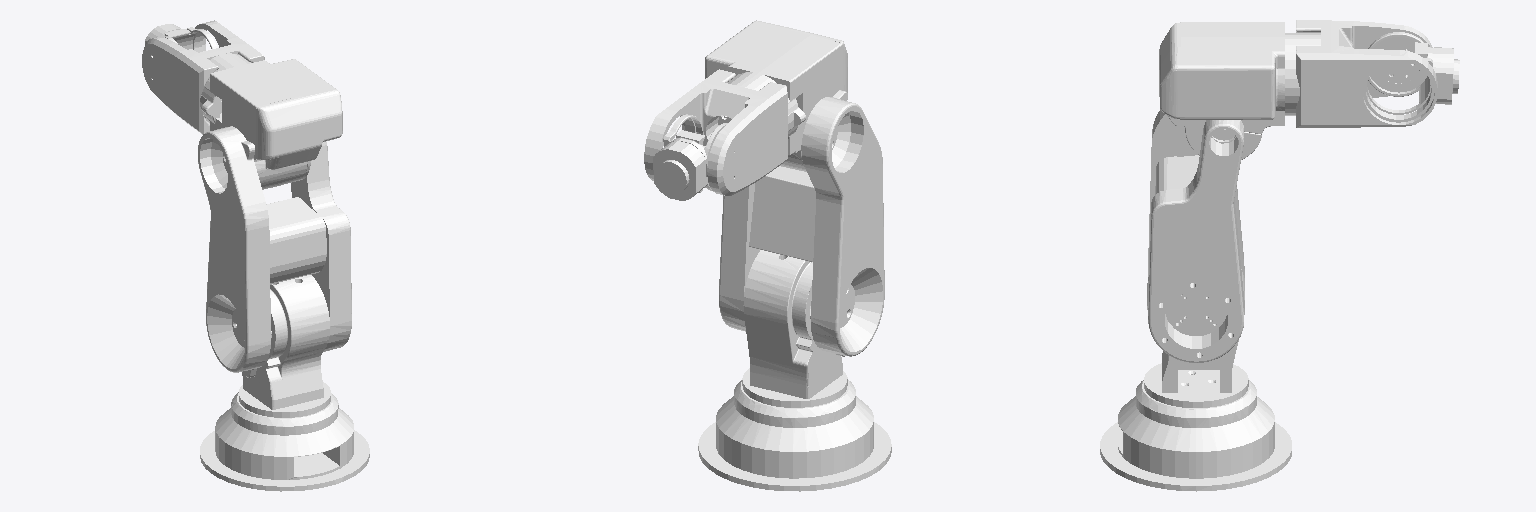
robot.urdf — URDFrv4310V5:
<?xml version="1.0" encoding="utf-8"?>
<!-- This URDF was automatically created by SolidWorks to URDF Exporter! Originally created by Stephen Brawner (brawner@gmail.com) 
     Commit Version: 1.6.0-4-g7f85cfe  Build Version: 1.6.7995.38578
     For more information, please see http://wiki.ros.org/sw_urdf_exporter -->
<robot
  name="URDFrv4310V5">
  <link
    name="base_link">
    <inertial>
      <origin
        xyz="-0.0101029928561829 0.00541510687776237 0.00457907189567913"
        rpy="0 0 0" />
      <mass
        value="0.549364878093784" />
      <inertia
        ixx="0.000771742191237932"
        ixy="8.38431267360512E-10"
        ixz="-4.72291069552776E-10"
        iyy="0.000859100434967534"
        iyz="9.87271661745301E-06"
        izz="0.00131623999693316" />
    </inertial>
    <visual>
      <origin
        xyz="0 0 0"
        rpy="0 0 0" />
      <geometry>
        <mesh
          filename="package://URDFrv4310V5/meshes/base_link.STL" />
      </geometry>
      <material
        name="">
        <color
          rgba="1 1 1 1" />
      </material>
    </visual>
    <collision>
      <origin
        xyz="0 0 0"
        rpy="0 0 0" />
      <geometry>
        <mesh
          filename="package://URDFrv4310V5/meshes/base_link.STL" />
      </geometry>
    </collision>
  </link>
  <link
    name="Link_2">
    <inertial>
      <origin
        xyz="-0.000542719270293226 0.0580700926349134 -0.00138706366555102"
        rpy="0 0 0" />
      <mass
        value="0.24206224540398" />
      <inertia
        ixx="0.00050320038754434"
        ixy="-2.44140400645319E-05"
        ixz="1.00560402554646E-05"
        iyy="0.000210327437503027"
        iyz="-7.8875642308199E-06"
        izz="0.000446556812018024" />
    </inertial>
    <visual>
      <origin
        xyz="0 0 0"
        rpy="0 0 0" />
      <geometry>
        <mesh
          filename="package://URDFrv4310V5/meshes/Link_2.STL" />
      </geometry>
      <material
        name="">
        <color
          rgba="1 1 1 1" />
      </material>
    </visual>
    <collision>
      <origin
        xyz="0 0 0"
        rpy="0 0 0" />
      <geometry>
        <mesh
          filename="package://URDFrv4310V5/meshes/Link_2.STL" />
      </geometry>
    </collision>
  </link>
  <joint
    name="Joint_2"
    type="revolute">
    <origin
      xyz="-0.010103026744882 0.00179032146302967 0.0400894885827927"
      rpy="1.5707963267949 0 0.179381121036193" />
    <parent
      link="base_link" />
    <child
      link="Link_2" />
    <axis
      xyz="0 -1 0" />
    <limit
      lower="-3"
      upper="3"
      effort="3"
      velocity="31" />
  </joint>
  <link
    name="Link_3">
    <inertial>
      <origin
        xyz="-0.00998520469406751 0.0708578128269866 -0.00872725581638116"
        rpy="0 0 0" />
      <mass
        value="0.8323488073995" />
      <inertia
        ixx="0.0023530508740338"
        ixy="0.00011825724741994"
        ixz="-0.000152260416248124"
        iyy="0.00165660036639658"
        iyz="0.000283605004170917"
        izz="0.00313372486807789" />
    </inertial>
    <visual>
      <origin
        xyz="0 0 0"
        rpy="0 0 0" />
      <geometry>
        <mesh
          filename="package://URDFrv4310V5/meshes/Link_3.STL" />
      </geometry>
      <material
        name="">
        <color
          rgba="1 1 1 1" />
      </material>
    </visual>
    <collision>
      <origin
        xyz="0 0 0"
        rpy="0 0 0" />
      <geometry>
        <mesh
          filename="package://URDFrv4310V5/meshes/Link_3.STL" />
      </geometry>
    </collision>
  </link>
  <joint
    name="Joint_3"
    type="revolute">
    <origin
      xyz="0 0.0839285714286007 0"
      rpy="0.0898969539883811 0 0" />
    <parent
      link="Link_2" />
    <child
      link="Link_3" />
    <axis
      xyz="-0.983954302006384 -0.0160178787679434 -0.177700194493154" />
    <limit
      lower="-1.8"
      upper="2.4"
      effort="35"
      velocity="31" />
  </joint>
  <link
    name="Link_4">
    <inertial>
      <origin
        xyz="0.00817547125279738 0.0347372876122785 -0.0384445503706097"
        rpy="0 0 0" />
      <mass
        value="0.540085870130829" />
      <inertia
        ixx="0.000885402497020706"
        ixy="-2.29086887602058E-05"
        ixz="1.37726456275257E-05"
        iyy="0.000908479900759293"
        iyz="-1.22513104391719E-05"
        izz="0.000624307542304688" />
    </inertial>
    <visual>
      <origin
        xyz="0 0 0"
        rpy="0 0 0" />
      <geometry>
        <mesh
          filename="package://URDFrv4310V5/meshes/Link_4.STL" />
      </geometry>
      <material
        name="">
        <color
          rgba="1 1 1 1" />
      </material>
    </visual>
    <collision>
      <origin
        xyz="0 0 0"
        rpy="0 0 0" />
      <geometry>
        <mesh
          filename="package://URDFrv4310V5/meshes/Link_4.STL" />
      </geometry>
    </collision>
  </link>
  <joint
    name="Joint_4"
    type="revolute">
    <origin
      xyz="0 0.164285714285755 0"
      rpy="-0.0898969539883811 0 0" />
    <parent
      link="Link_3" />
    <child
      link="Link_4" />
    <axis
      xyz="-0.983954302006411 0 -0.178420659014244" />
    <limit
      lower="-3"
      upper="0.9"
      effort="3"
      velocity="31" />
  </joint>
  <link
    name="Link_5">
    <inertial>
      <origin
        xyz="0.019045 0.00090581 -0.1066"
        rpy="0 0 0" />
      <mass
        value="0.19735" />
      <inertia
        ixx="0.0002376"
        ixy="-3.4066E-06"
        ixz="-2.647E-05"
        iyy="0.00027293"
        iyz="-2.7386E-06"
        izz="0.00020071" />
    </inertial>
    <visual>
      <origin
        xyz="0 0 0"
        rpy="0 0 0" />
      <geometry>
        <mesh
          filename="package://URDFrv4310V5/meshes/Link_5.STL" />
      </geometry>
      <material
        name="">
        <color
          rgba="1 1 1 1" />
      </material>
    </visual>
    <collision>
      <origin
        xyz="0 0 0"
        rpy="0 0 0" />
      <geometry>
        <mesh
          filename="package://URDFrv4310V5/meshes/Link_5.STL" />
      </geometry>
    </collision>
  </link>
  <joint
    name="Joint_5"
    type="revolute">
    <origin
      xyz="-0.0075 0.035714 -0.037925"
      rpy="0 0 -0.098295" />
    <parent
      link="Link_4" />
    <child
      link="Link_5" />
    <axis
      xyz="-0.17756 -0.01751 0.98395" />
    <limit
      lower="-4"
      upper="4"
      effort="3"
      velocity="31" />
  </joint>
  <link
    name="Link_6">
    <inertial>
      <origin
        xyz="0.035116 -0.0048945 -0.02058"
        rpy="0 0 0" />
      <mass
        value="0.043392" />
      <inertia
        ixx="1.5771E-05"
        ixy="4.324E-07"
        ixz="6.0604E-07"
        iyy="1.3621E-05"
        iyz="-5.9209E-08"
        izz="1.3634E-05" />
    </inertial>
    <visual>
      <origin
        xyz="0 0 0"
        rpy="0 0 0" />
      <geometry>
        <mesh
          filename="package://URDFrv4310V5/meshes/Link_6.STL" />
      </geometry>
      <material
        name="">
        <color
          rgba="1 1 1 1" />
      </material>
    </visual>
    <collision>
      <origin
        xyz="0 0 0"
        rpy="0 0 0" />
      <geometry>
        <mesh
          filename="package://URDFrv4310V5/meshes/Link_6.STL" />
      </geometry>
    </collision>
  </link>
  <joint
    name="Joint_6"
    type="revolute">
    <origin
      xyz="0 0 -0.15373"
      rpy="0.28181 0 0" />
    <parent
      link="Link_5" />
    <child
      link="Link_6" />
    <axis
      xyz="-0.9792 -0.14237 -0.14453" />
    <limit
      lower="-3.5"
      upper="0.9"
      effort="3"
      velocity="31" />
  </joint>
</robot>

--- Facts derived from the render (not from the file) ---
3 views of the same robot in one strip: view 1: azimuth 30°, elevation 25°; view 2: azimuth 150°, elevation 25°; view 3: azimuth 270°, elevation 25° (orthographic).
Robot: URDFrv4310V5 — 6 links, 5 joints (5 revolute); root link base_link; default pose: all joints at 0.
Visible links, largest first — view 1: Link_3, Link_4, base_link, Link_2, Link_5, Link_6; view 2: Link_3, base_link, Link_2, Link_5, Link_4, Link_6; view 3: Link_3, Link_4, base_link, Link_5, Link_2, Link_6.
Boxes of the visible links, x1,y1,x2,y2 form: Link_3: (198,126,351,377); Link_4: (200,53,342,189); base_link: (200,392,369,491); Link_2: (239,275,330,417); Link_5: (142,20,264,134); Link_6: (145,24,217,49); Link_3: (719,90,884,356); base_link: (698,380,891,491); Link_2: (742,250,847,407); Link_5: (644,69,787,195); Link_4: (705,20,847,171); Link_6: (653,114,727,200); Link_3: (1148,110,1244,362); Link_4: (1159,22,1320,159); base_link: (1100,380,1291,491); Link_5: (1296,20,1437,127); Link_2: (1144,269,1248,407); Link_6: (1366,32,1459,114).
Size in the robot's own frame: 0.16 by 0.2984 by 0.3758 metres.
6 mesh visuals loaded from 6 distinct referenced files (6 binary STL).
